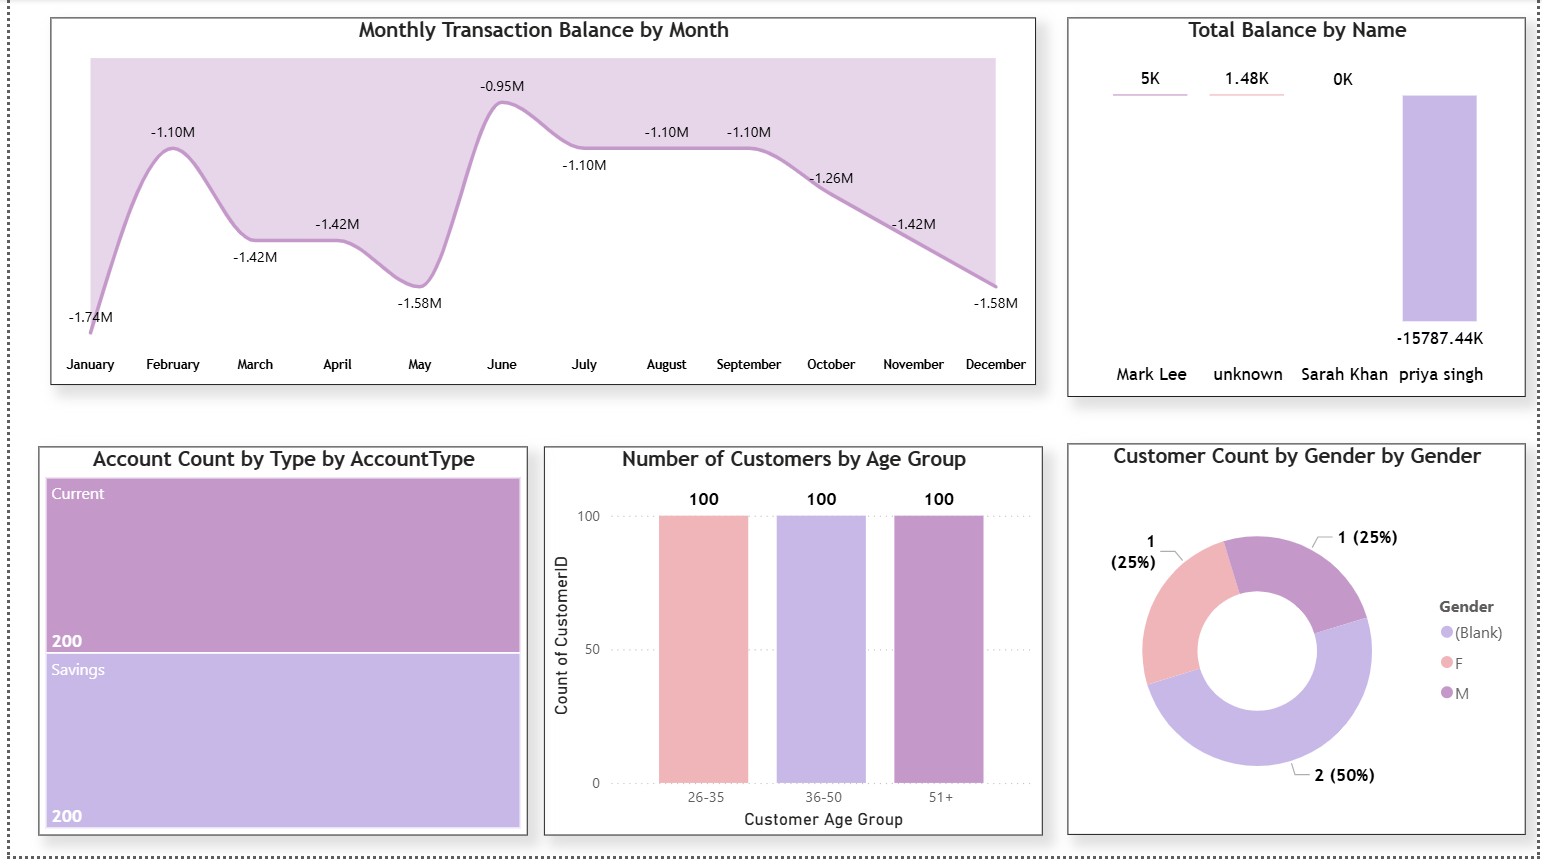

The dashboard page shown, as its layout file describes it:
{"tool":"powerbi","page":{"name":"Page 2","canvas":[1280,720],"ordinal":1},"visuals":[{"type":"donutChart","fields":{"Category":["CombinedBankingDataset.Gender"],"Y":["Measures Table.Customer Count by Gender"]},"box":[886,374,384,328],"z":0},{"type":"columnChart","title":"Number of Customers by Age Group","fields":{"Category":["CombinedBankingDataset.Customer Age Group"],"Y":["CountNonNull(CombinedBankingDataset.CustomerID)"]},"box":[448,376,418,326],"z":1000},{"type":"treemap","fields":{"Group":["CombinedBankingDataset.AccountType"],"Values":["Measures Table.Account Count by Type"]},"box":[24,376,410,326],"z":2000},{"type":"clusteredColumnChart","title":"Total Balance by Name","fields":{"Category":["CombinedBankingDataset.Name"],"Y":["Sum(CombinedBankingDataset.Balance)"]},"box":[886,16,384,318],"z":3000},{"type":"areaChart","fields":{"Category":["CombinedBankingDataset.TransactionDate.Variation.Date Hierarchy.Month"],"Y":["Measures Table.Monthly Transaction Balance"]},"box":[34,16,826,308],"z":4000}]}

Visuals, with their boxes in screenshot pixels (x1, y1, x2, y2), scaled from the page's 1280x720 canvas onto the 1542x859 screenshot:
donutChart - CombinedBankingDataset.Gender x Measures Table.Customer Count by Gender: locate(1067, 446, 1530, 838)
"Number of Customers by Age Group" columnChart: locate(540, 449, 1043, 838)
treemap - CombinedBankingDataset.AccountType x Measures Table.Account Count by Type: locate(29, 449, 523, 838)
"Total Balance by Name" clusteredColumnChart: locate(1067, 19, 1530, 398)
areaChart - CombinedBankingDataset.TransactionDate.Variation.Date Hierarchy.Month x Measures Table.Monthly Transaction Balance: locate(41, 19, 1036, 387)
